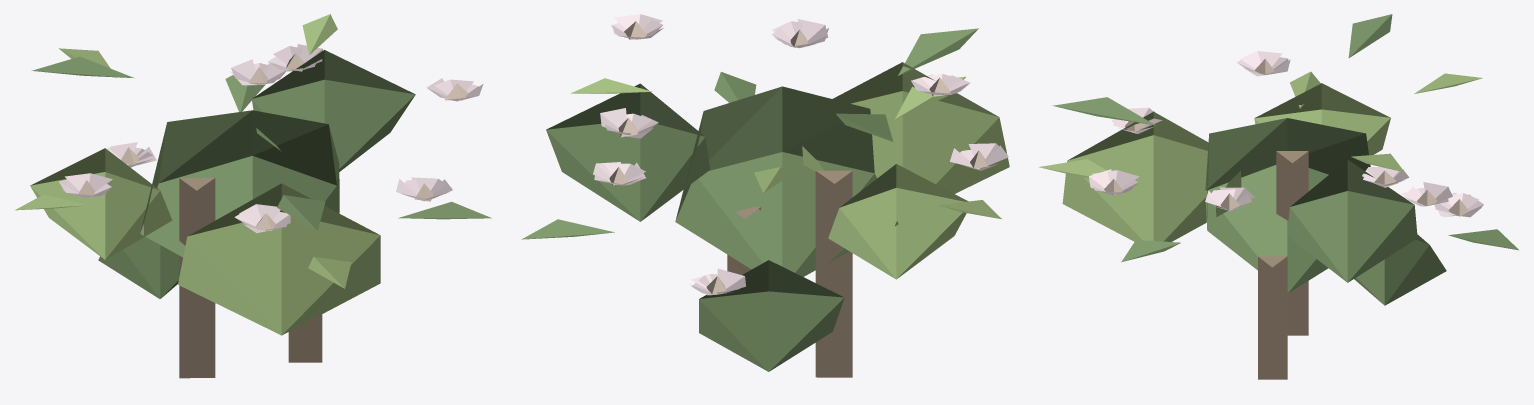
Rendered from nong.da@flowering__spring.glb.
3 views of the same model, side by side, from view 1: azimuth 30°, elevation 25°; view 2: azimuth 150°, elevation 25°; view 3: azimuth 270°, elevation 25° (orthographic). The views are drawn at different scales.
Parts seen in each view (by area): view 1: nong.da@flowering__spring; view 2: nong.da@flowering__spring; view 3: nong.da@flowering__spring.
Part boxes in pixels (box(x1,y1,x2,y2)): nong.da@flowering__spring: box(15, 14, 491, 378); nong.da@flowering__spring: box(521, 14, 1009, 377); nong.da@flowering__spring: box(1038, 14, 1518, 379).
Size of the model in its own units: 1.41 by 0.966 by 1.51.
